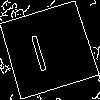I: (23, 24, 51, 73)
